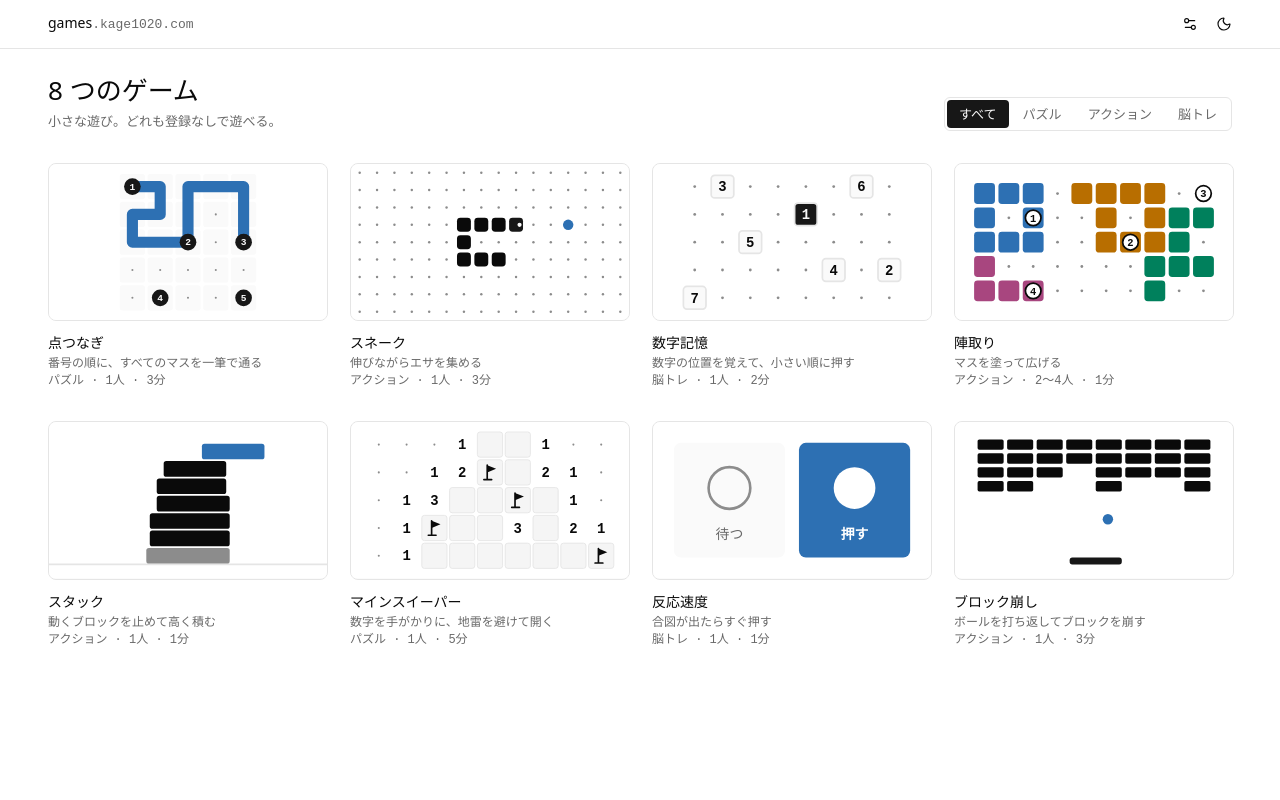
Test case: home › AC-U5 lists eight games and filters them by genre
The image size is (1280, 800).
Expected: the heading "8 つのゲーム" is shown, [48,72,199,108]
What coordinates should you click on to do the following:
click the radio button labelled "パズル"
I would click on:
 (1042, 114)
Its box is [1023,105,1062,123].
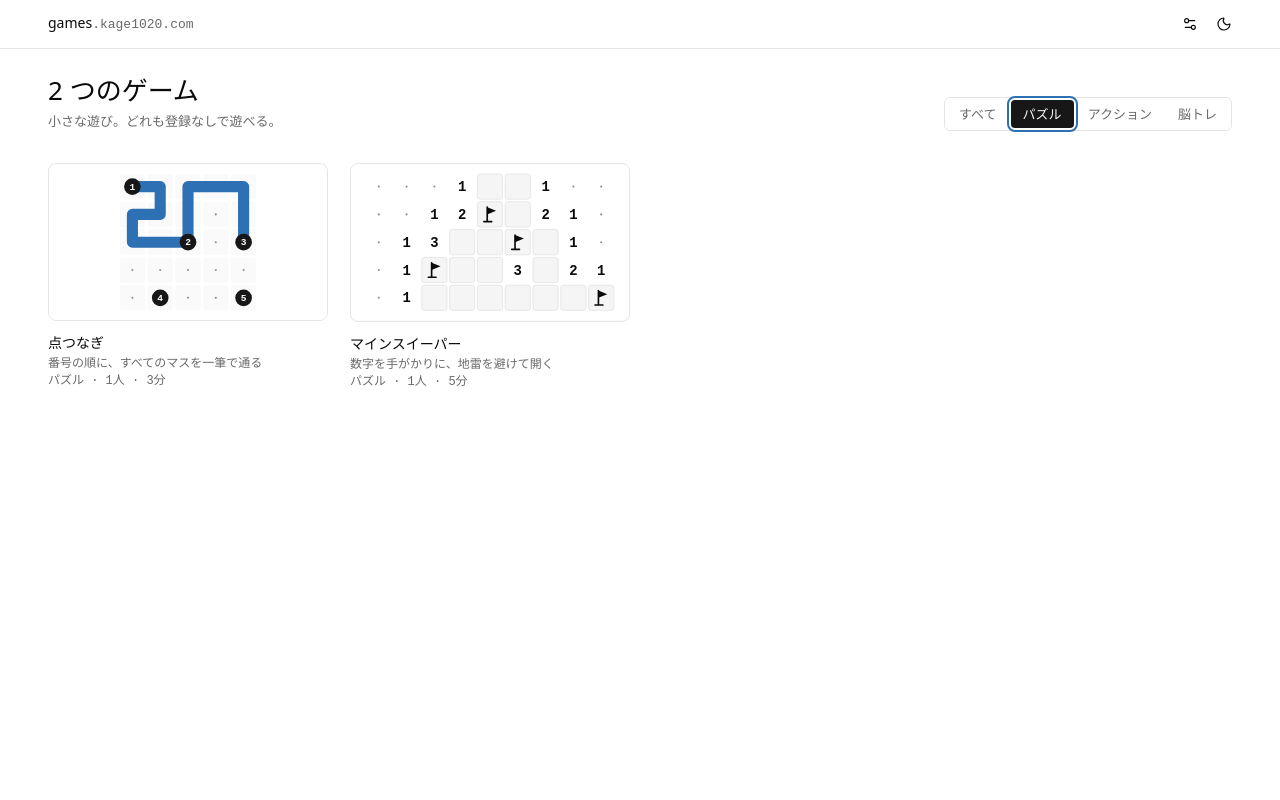
Now the number of list items is 2, box [48,163,326,389]; [350,163,628,389]
